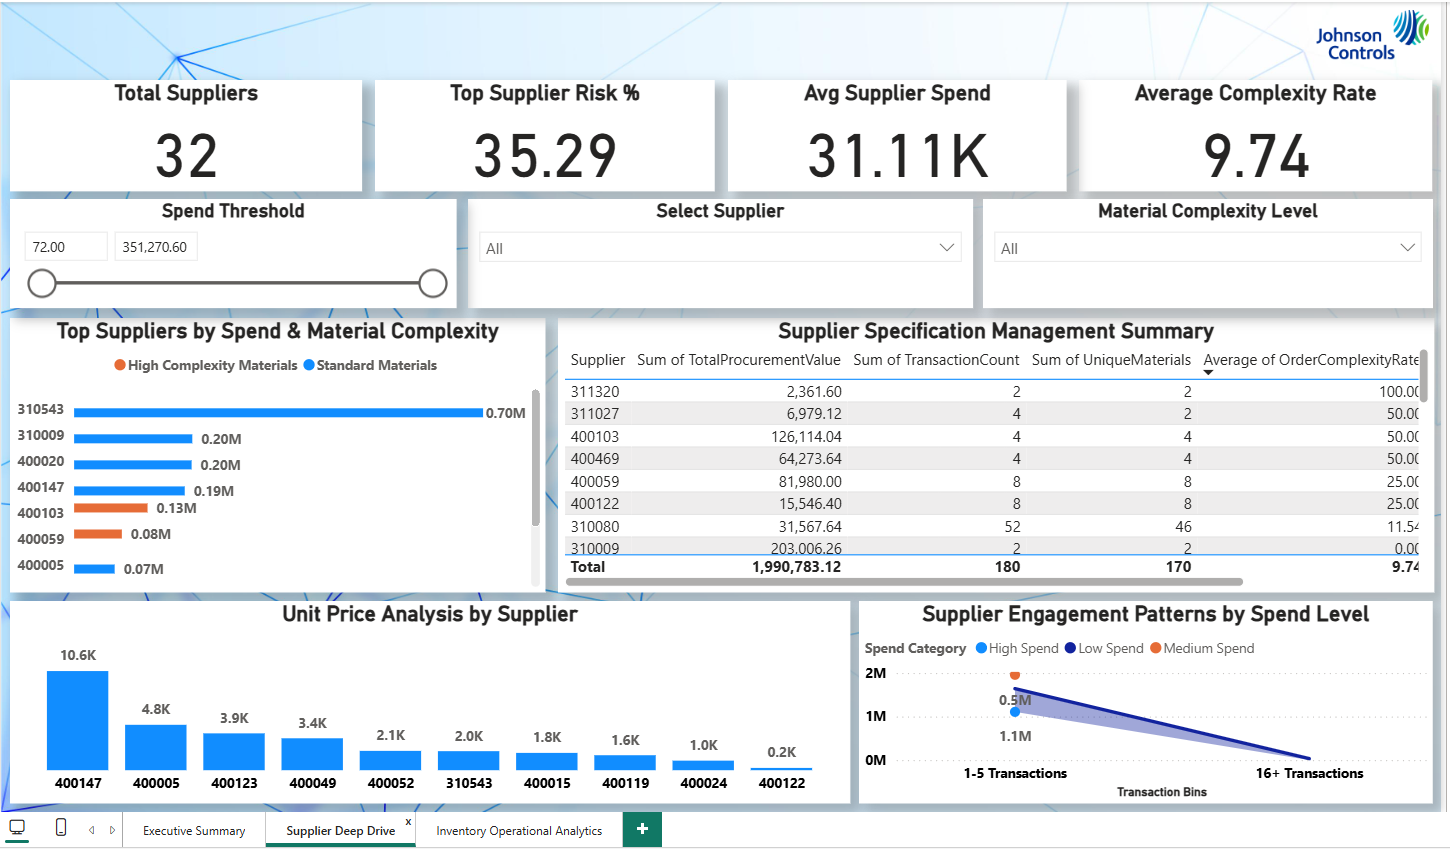

The dashboard page shown, as its layout file describes it:
{"tool":"powerbi","page":{"name":"Supplier Deep Drive","canvas":[1280,720],"ordinal":1},"visuals":[{"type":"image","box":[1158.2,0,121.8,57.8],"z":0},{"type":"card","title":"Total Suppliers","fields":{"Values":["Count(vw_SupplierPerformance.Supplier)"]},"box":[8.1,69.5,313.4,98.8],"z":1000},{"type":"card","title":"Top Supplier Risk %","fields":{"Values":["vw_SupplierPerformance.Top Supplier %"]},"box":[332.6,69.5,302.4,98.8],"z":2000},{"type":"card","title":"Average Complexity Rate","fields":{"Values":["Avg(vw_SupplierPerformance.OrderComplexityRate)"]},"box":[958.5,69.5,314.5,98.8],"z":3000},{"type":"card","title":"Avg Supplier Spend","fields":{"Values":["Avg(vw_SupplierPerformance.TotalProcurementValue)"]},"box":[646,69.5,301.4,98.8],"z":4000},{"type":"clusteredBarChart","title":"Top Suppliers by Spend & Material Complexity","fields":{"Category":["vw_SupplierPerformance.Supplier"],"Y":["Sum(vw_SupplierPerformance.TotalProcurementValue)"],"Series":["vw_SupplierPerformance.ComplexityCategory"]},"box":[8.1,281.1,476.2,243.9],"z":5000},{"type":"tableEx","title":"Supplier Specification Management Summary","fields":{"Values":["vw_SupplierPerformance.Supplier","Sum(vw_SupplierPerformance.TotalProcurementValue)","Sum(vw_SupplierPerformance.TransactionCount)","Sum(vw_SupplierPerformance.UniqueMaterials)","Avg(vw_SupplierPerformance.OrderComplexityRate)","vw_SupplierPerformance.ComplexityCategory"]},"box":[494.8,281.1,779.4,243.9],"z":6000},{"type":"clusteredColumnChart","title":"Unit Price Analysis by Supplier","fields":{"Category":["vw_ProcurementPerformance.Supplier"],"Y":["Avg(vw_ProcurementPerformance.UnitPrice)"]},"box":[8.1,532.2,746.8,180.4],"z":7000},{"type":"stackedAreaChart","title":"Supplier Engagement Patterns by Spend Level","fields":{"Category":["vw_SupplierPerformance.Transaction Bins"],"Y":["Sum(vw_SupplierPerformance.TotalProcurementValue)"],"Series":["vw_SupplierPerformance.Spend Category"]},"box":[763,532.2,510,180.4],"z":8000},{"type":"slicer","title":"Select Supplier","fields":{"Values":["vw_SupplierPerformance.Supplier"]},"box":[415.2,175.4,448.5,96.8],"z":9000},{"type":"slicer","title":"Material Complexity Level","fields":{"Values":["vw_SupplierPerformance.ComplexityCategory"]},"box":[872.8,175.4,400.1,96.8],"z":10000},{"type":"slicer","title":"Spend Threshold","fields":{"Values":["vw_SupplierPerformance.TotalProcurementValue"]},"box":[8.1,175.4,397.1,96.8],"z":11000}]}

Visuals, with their boxes in screenshot pixels (x1, y1, x2, y2):
image: bbox(1298, 4, 1434, 68)
"Total Suppliers" card: bbox(13, 81, 363, 192)
"Top Supplier Risk %" card: bbox(375, 81, 713, 192)
"Average Complexity Rate" card: bbox(1075, 81, 1426, 192)
"Avg Supplier Spend" card: bbox(725, 81, 1062, 192)
"Top Suppliers by Spend & Material Complexity" clusteredBarChart: bbox(13, 318, 545, 590)
"Supplier Specification Management Summary" tableEx: bbox(557, 318, 1427, 590)
"Unit Price Analysis by Supplier" clusteredColumnChart: bbox(13, 598, 847, 800)
"Supplier Engagement Patterns by Spend Level" stackedAreaChart: bbox(856, 598, 1426, 800)
"Select Supplier" slicer: bbox(468, 200, 969, 308)
"Material Complexity Level" slicer: bbox(979, 200, 1426, 308)
"Spend Threshold" slicer: bbox(13, 200, 456, 308)
